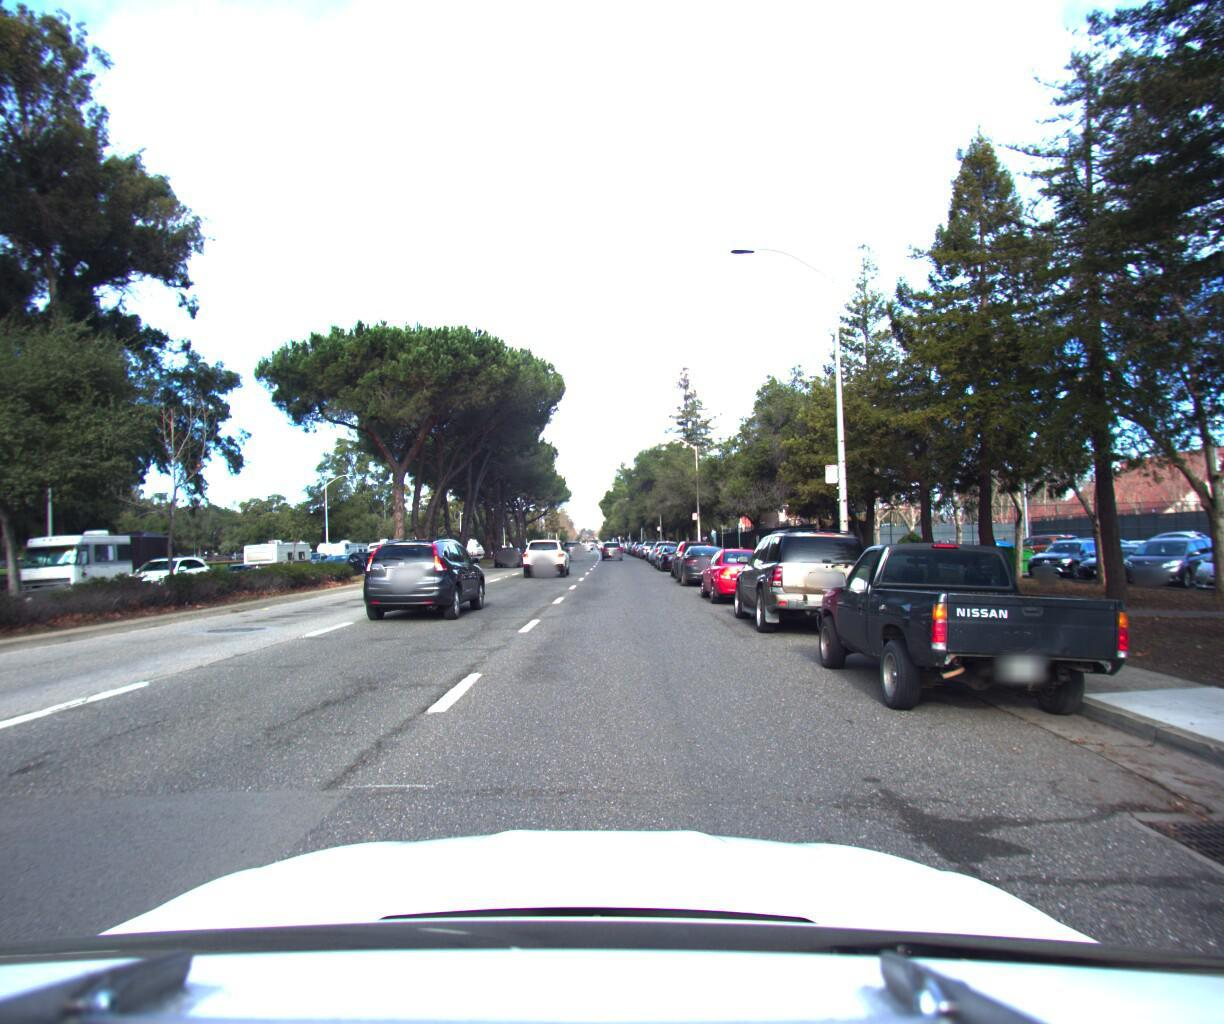car: (795, 525, 1151, 754), (729, 513, 892, 642), (354, 527, 496, 627), (695, 535, 795, 608), (119, 547, 220, 594), (675, 533, 731, 583), (669, 531, 722, 575), (521, 530, 573, 573), (658, 534, 699, 567), (490, 539, 525, 563), (559, 529, 586, 552), (600, 533, 622, 553)
other_vehicle: (6, 519, 191, 600), (241, 532, 319, 573), (312, 529, 380, 564)
